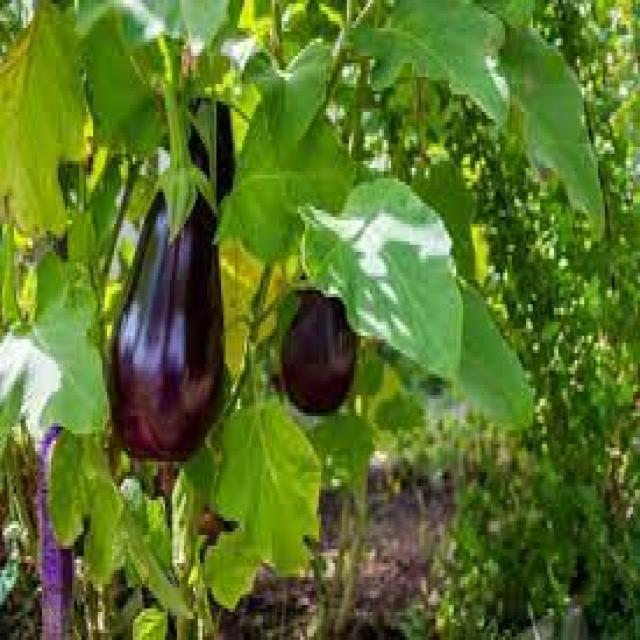Eggplant: (110, 100, 228, 461), (280, 266, 362, 414), (184, 78, 238, 212)
